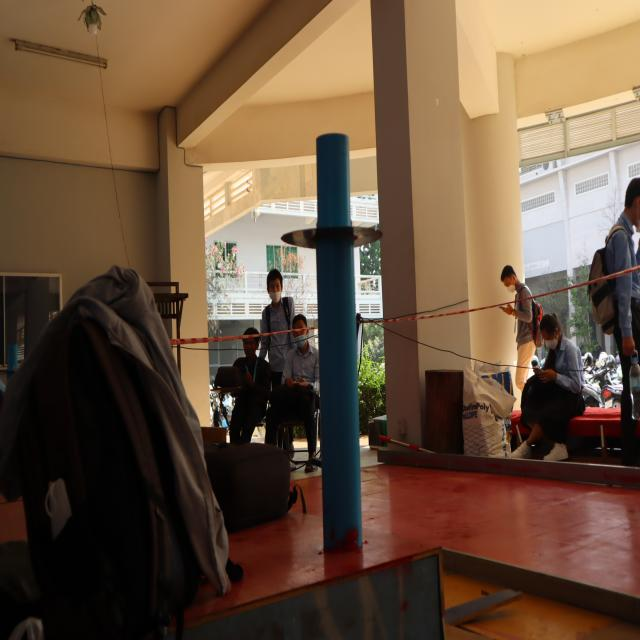pole: (272, 124, 398, 372)
